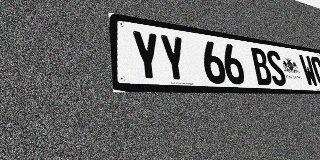6: (199, 40, 228, 84), (220, 43, 246, 85)
B: (249, 47, 274, 86)
C: (309, 56, 320, 87)
S: (264, 49, 288, 86)
W: (298, 54, 319, 87)
Y: (130, 29, 163, 82), (158, 34, 189, 83)
